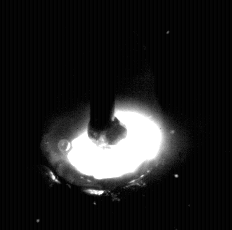arame: (90, 0, 116, 145)
poca: (41, 0, 166, 230)
